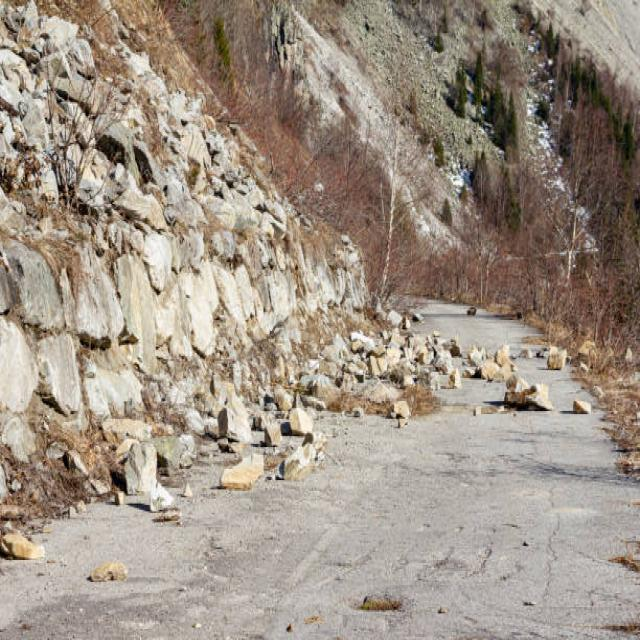landSliding: (236, 193, 587, 537)
